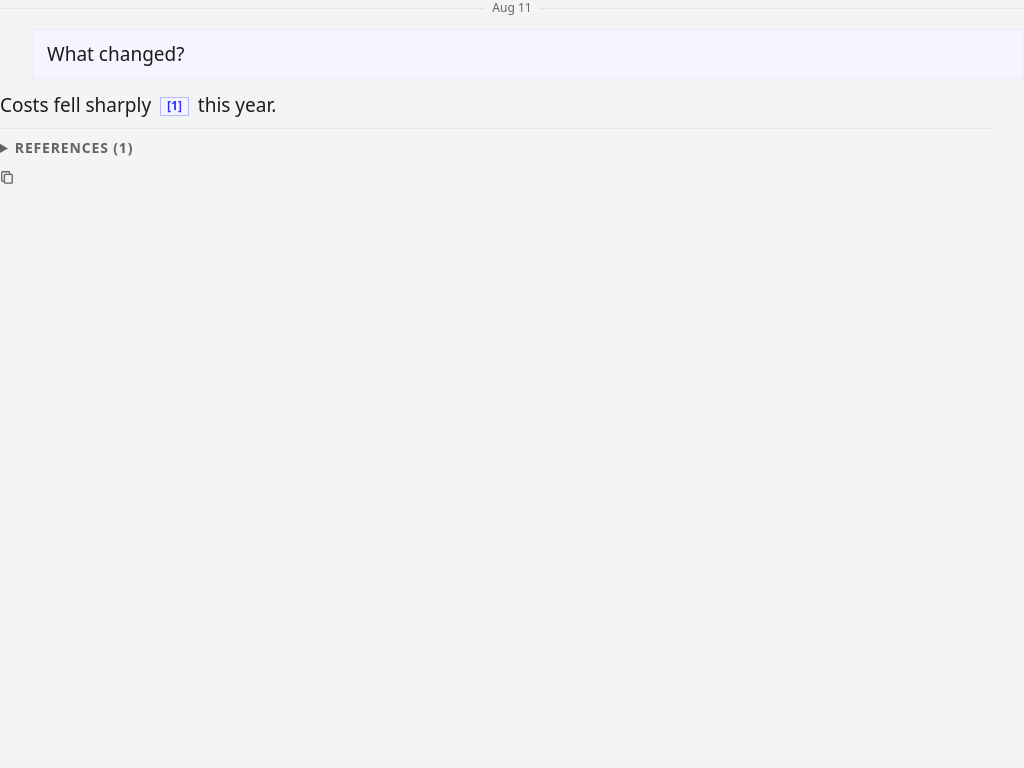
Test: ChatMessages › keeps a marker nested inside a claim span opening only its own citation sheet — no double-open from the enclosing span
This screenshot has width=1024, height=768.
Click the button "[1]".
click(174, 107)  # box [160,97,189,116]
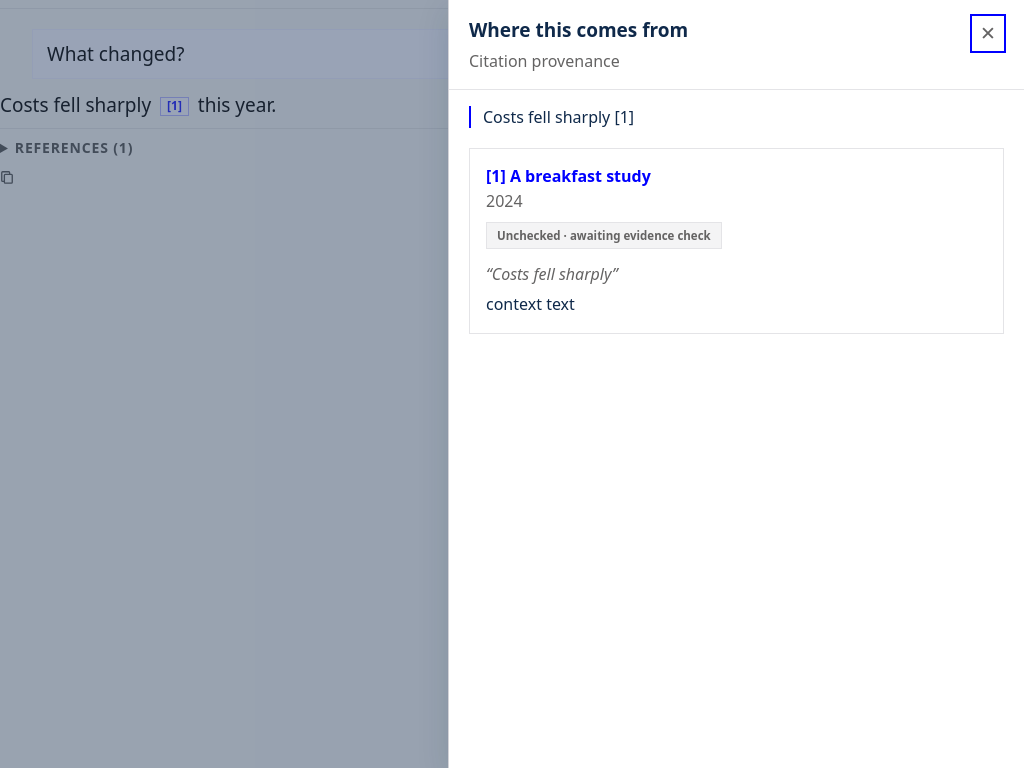
Expected: the number of dialogs "Where this comes from" is 1, [448,0,1023,767]
